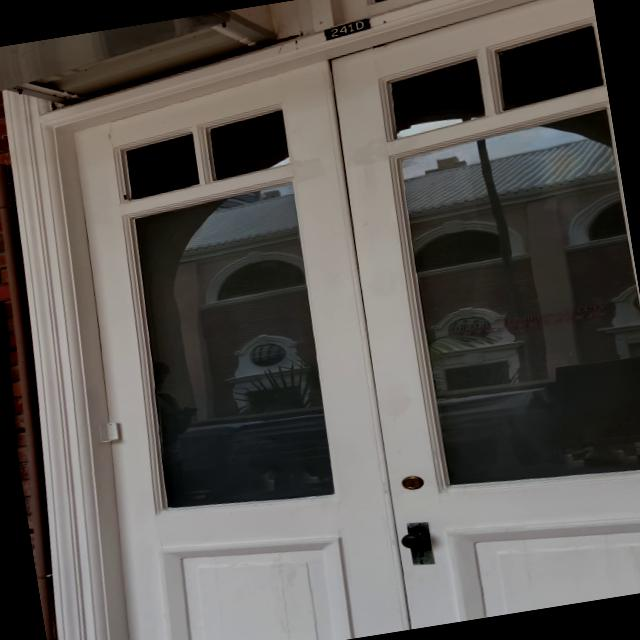room241d: (320, 15, 374, 42)
